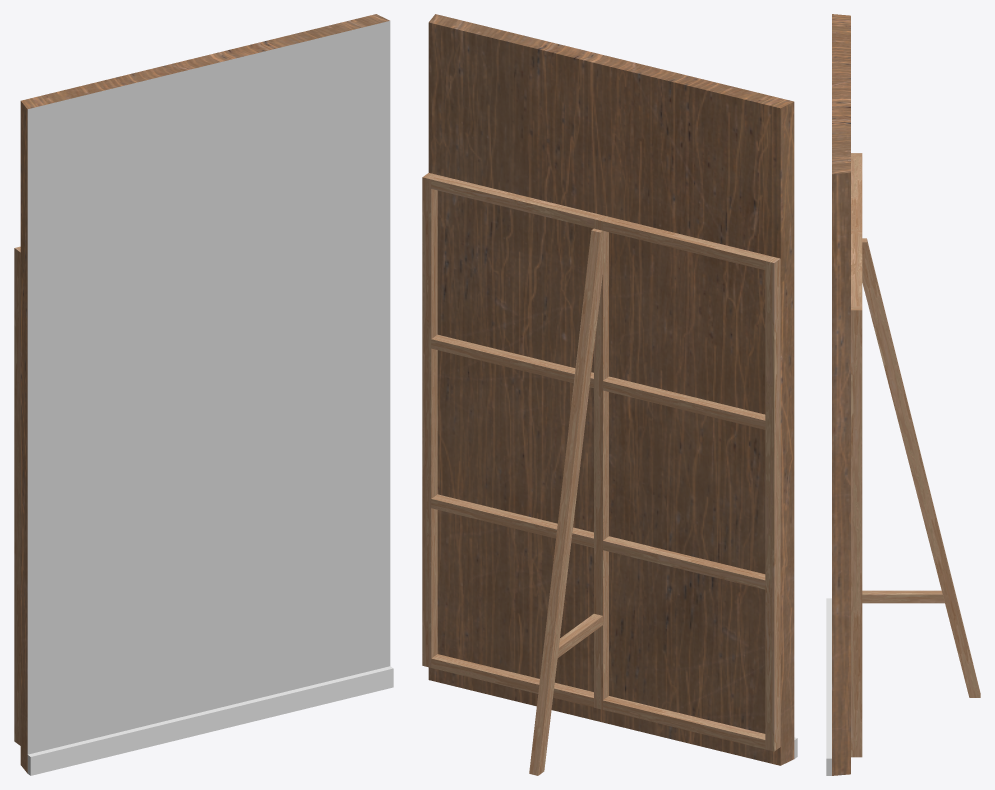
Rendered from MovieSet_Wall_Small.fbx.
The picture shows the model from 3 angles, left to right: view 1: azimuth 30°, elevation 25°; view 2: azimuth 150°, elevation 25°; view 3: azimuth 270°, elevation 25°; orthographic projection. The views are drawn at different scales.
Visible parts, largest first — view 1: MovieSet_Wall_Small; view 2: MovieSet_Wall_Small; view 3: MovieSet_Wall_Small.
Part boxes in pixels (<box>): MovieSet_Wall_Small: <box>14,14,393,775</box>; MovieSet_Wall_Small: <box>422,14,797,775</box>; MovieSet_Wall_Small: <box>826,14,980,775</box>.
Bounding box in the file's own units: 2 × 3.5 × 0.8145.
